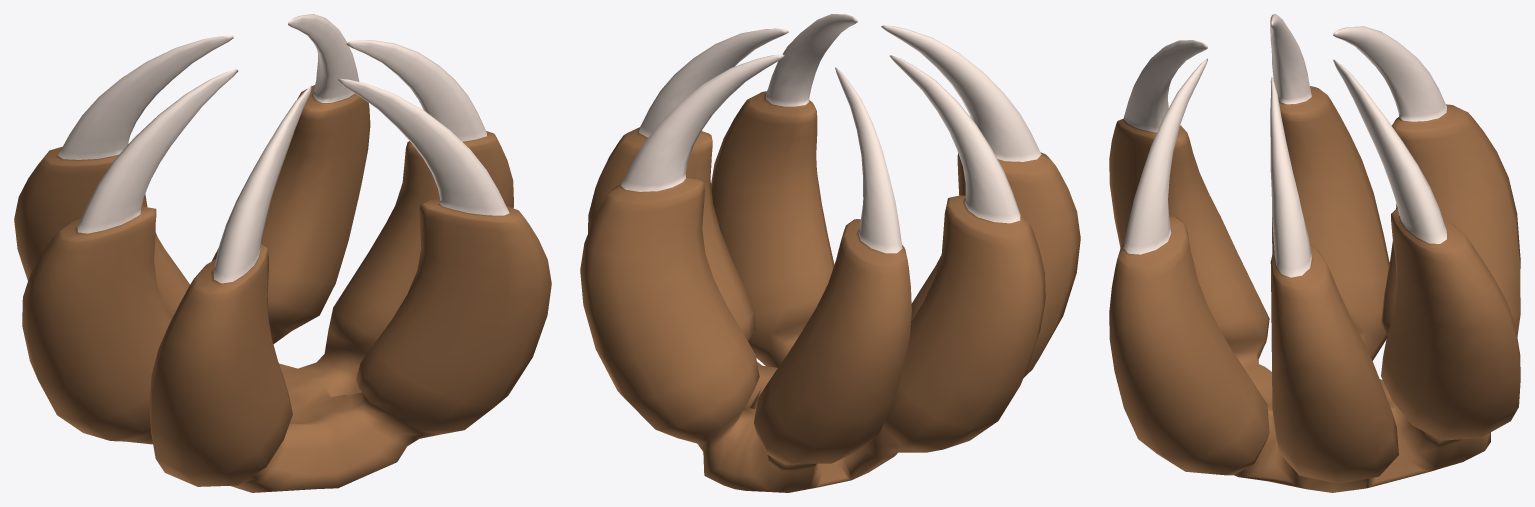
The model's file is Jaws.fbx.
3 renders of one model, left to right at view 1: azimuth 30°, elevation 25°; view 2: azimuth 150°, elevation 25°; view 3: azimuth 270°, elevation 25°, orthographic. The views are drawn at different scales.
Parts seen in each view (by area): view 1: Jaws - 0etsch; view 2: Jaws - 0etsch; view 3: Jaws - 0etsch.
Part boxes in pixels (box(x1,y1,x2,y2)): Jaws - 0etsch: box(14, 14, 551, 492); Jaws - 0etsch: box(580, 14, 1080, 492); Jaws - 0etsch: box(1109, 14, 1520, 492).
Size of the model in its own units: 118 by 102 by 89.46.
